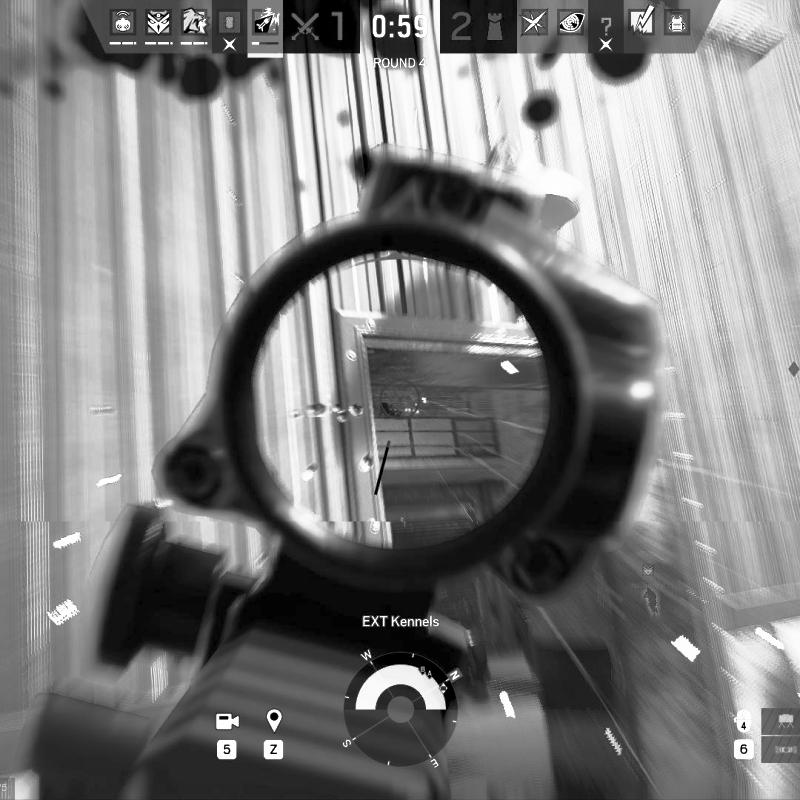Character: (381, 400, 404, 418)
Head: (381, 402, 391, 411)
